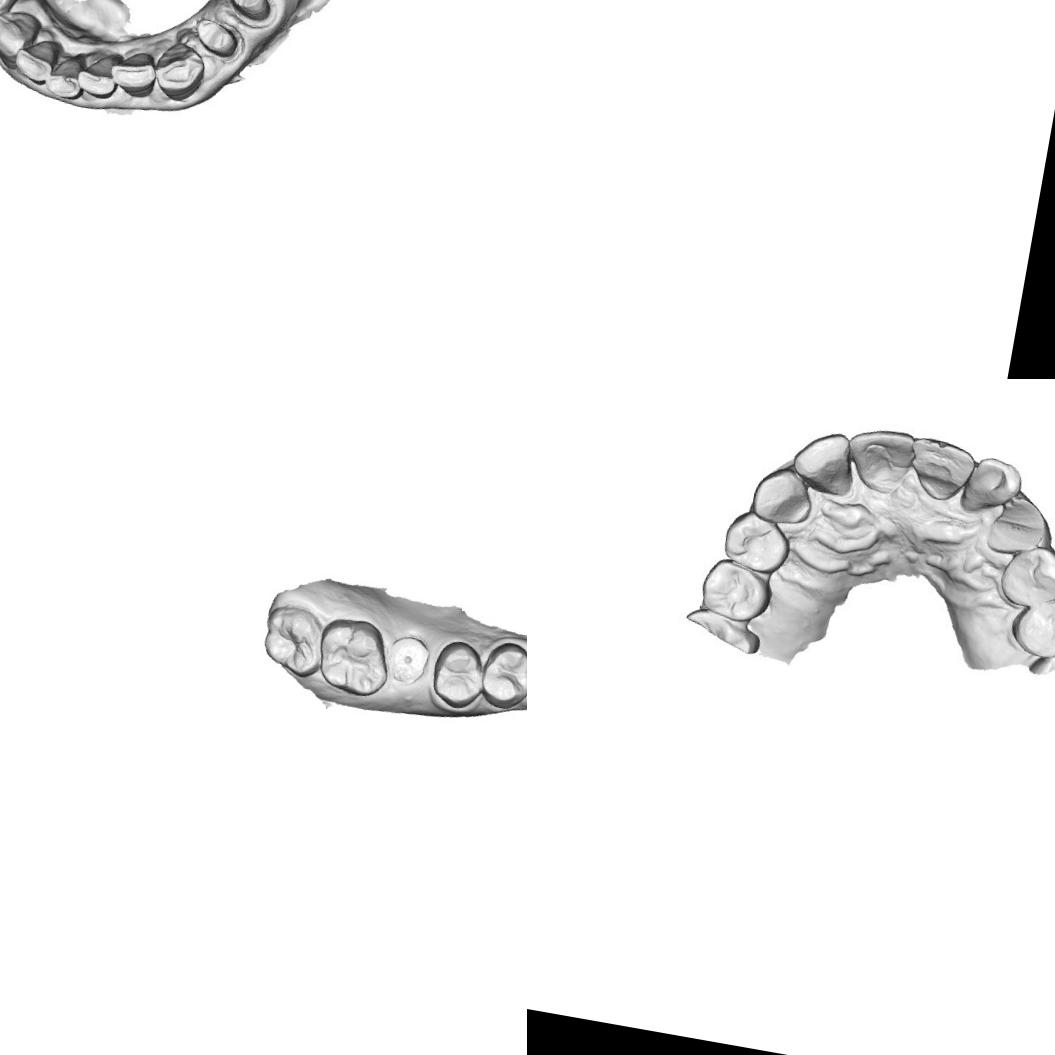canine: (984, 487, 1053, 556), (748, 468, 820, 533), (151, 38, 209, 104), (0, 0, 43, 68)
crown: (188, 17, 242, 57), (223, 0, 271, 20)
implant: (384, 630, 432, 688)
incisor: (904, 432, 973, 507), (791, 429, 864, 499), (846, 423, 916, 490), (959, 454, 1018, 522), (13, 32, 64, 88), (112, 46, 160, 98), (76, 48, 123, 100), (48, 50, 92, 102)
molar: (310, 611, 396, 700), (255, 600, 330, 681)
premolar: (694, 552, 780, 628), (718, 509, 797, 580), (426, 636, 490, 712), (994, 538, 1055, 612), (475, 637, 527, 712), (1011, 597, 1055, 667)
